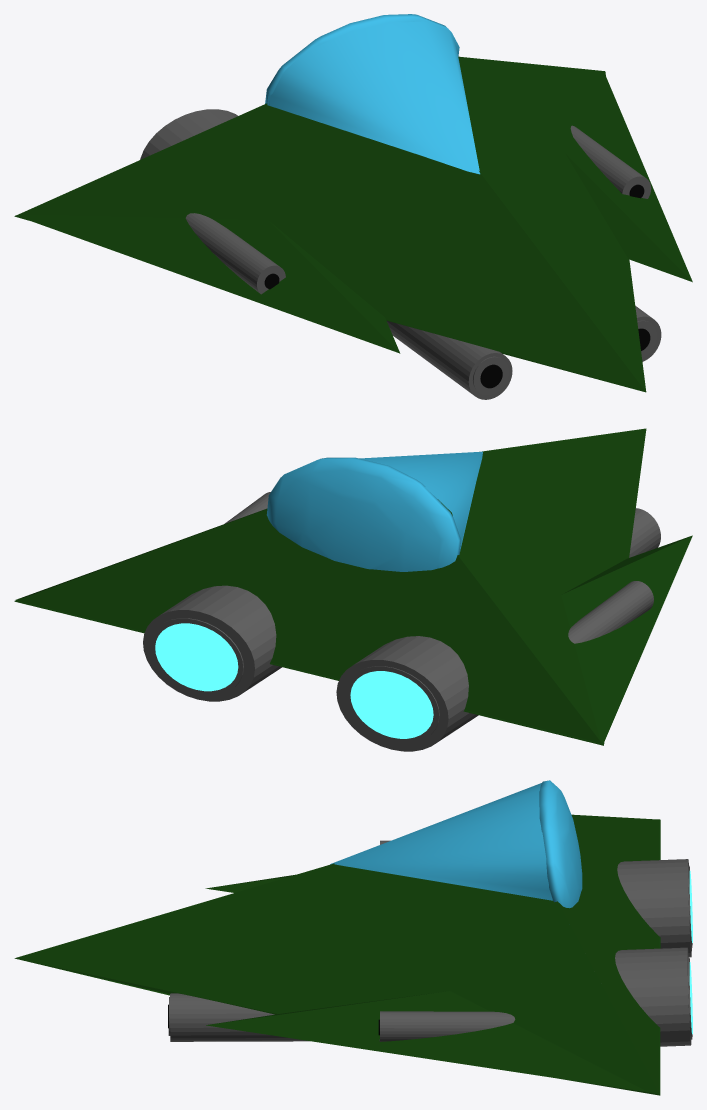
The model's file is NaveVerdeV3.fbx.
The picture shows the model from 3 angles, top to bottom: view 1: azimuth 30°, elevation 25°; view 2: azimuth 150°, elevation 25°; view 3: azimuth 270°, elevation 25°; orthographic projection. The views are drawn at different scales.
Parts seen in each view (by area): view 1: Plane.002, Cone.001, Plane.004, Plane.003, Cylinder.021, Cylinder.018, Cylinder.016, Cylinder.019, Mball.001, Cylinder.023; view 2: Plane.002, Mball.001, Plane.004, Cylinder.017, Cylinder.016, Cylinder.028, Cylinder.029, Cone.001, Cylinder.018, Cylinder.030, Cylinder.031, Cylinder.021; view 3: Plane.002, Plane.003, Cone.001, Cylinder.017, Cylinder.016, Mball.001, Cylinder.020, Cylinder.019, Plane.004.
Part boxes in pixels (x1=…): Plane.002: x1=14, y1=56, x2=646, y2=392; Cone.001: x1=267, y1=21, x2=480, y2=174; Plane.004: x1=15, y1=214, x2=400, y2=353; Plane.003: x1=565, y1=77, x2=692, y2=282; Cylinder.021: x1=387, y1=321, x2=512, y2=399; Cylinder.018: x1=185, y1=213, x2=285, y2=294; Cylinder.016: x1=140, y1=109, x2=237, y2=159; Cylinder.019: x1=570, y1=125, x2=651, y2=198; Mball.001: x1=265, y1=14, x2=459, y2=105; Cylinder.023: x1=473, y1=356, x2=508, y2=395; Plane.002: x1=14, y1=428, x2=646, y2=745; Mball.001: x1=266, y1=457, x2=460, y2=571; Plane.004: x1=308, y1=535, x2=692, y2=744; Cylinder.017: x1=143, y1=585, x2=281, y2=701; Cylinder.016: x1=336, y1=636, x2=478, y2=751; Cylinder.028: x1=155, y1=623, x2=238, y2=691; Cylinder.029: x1=350, y1=671, x2=433, y2=738; Cone.001: x1=359, y1=451, x2=482, y2=551; Cylinder.018: x1=568, y1=581, x2=653, y2=643; Cylinder.030: x1=149, y1=618, x2=243, y2=695; Cylinder.031: x1=345, y1=666, x2=439, y2=743; Cylinder.021: x1=629, y1=508, x2=660, y2=557; Plane.002: x1=14, y1=814, x2=660, y2=1095; Plane.003: x1=206, y1=991, x2=659, y2=1093; Cone.001: x1=330, y1=783, x2=552, y2=900; Cylinder.017: x1=615, y1=947, x2=691, y2=1046; Cylinder.016: x1=617, y1=859, x2=691, y2=957; Mball.001: x1=539, y1=780, x2=582, y2=908; Cylinder.020: x1=170, y1=993, x2=309, y2=1041; Cylinder.019: x1=379, y1=1011, x2=515, y2=1041; Plane.004: x1=205, y1=819, x2=659, y2=948.
Bounding box in the file's own units: 601 × 268 × 624.
